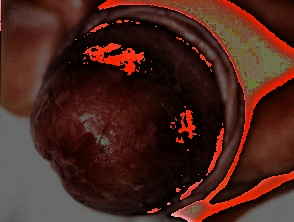SJS-TEN: (8, 0, 273, 222)
